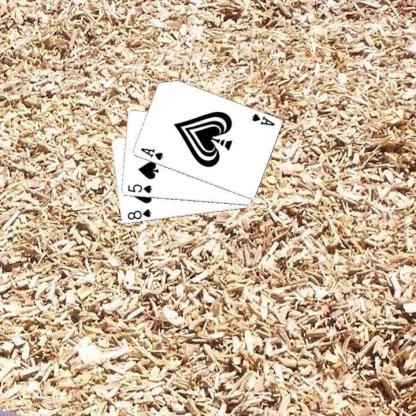5S: (125, 182, 153, 195)
8S: (125, 207, 152, 221)
AS: (249, 111, 276, 127), (138, 146, 164, 161)
